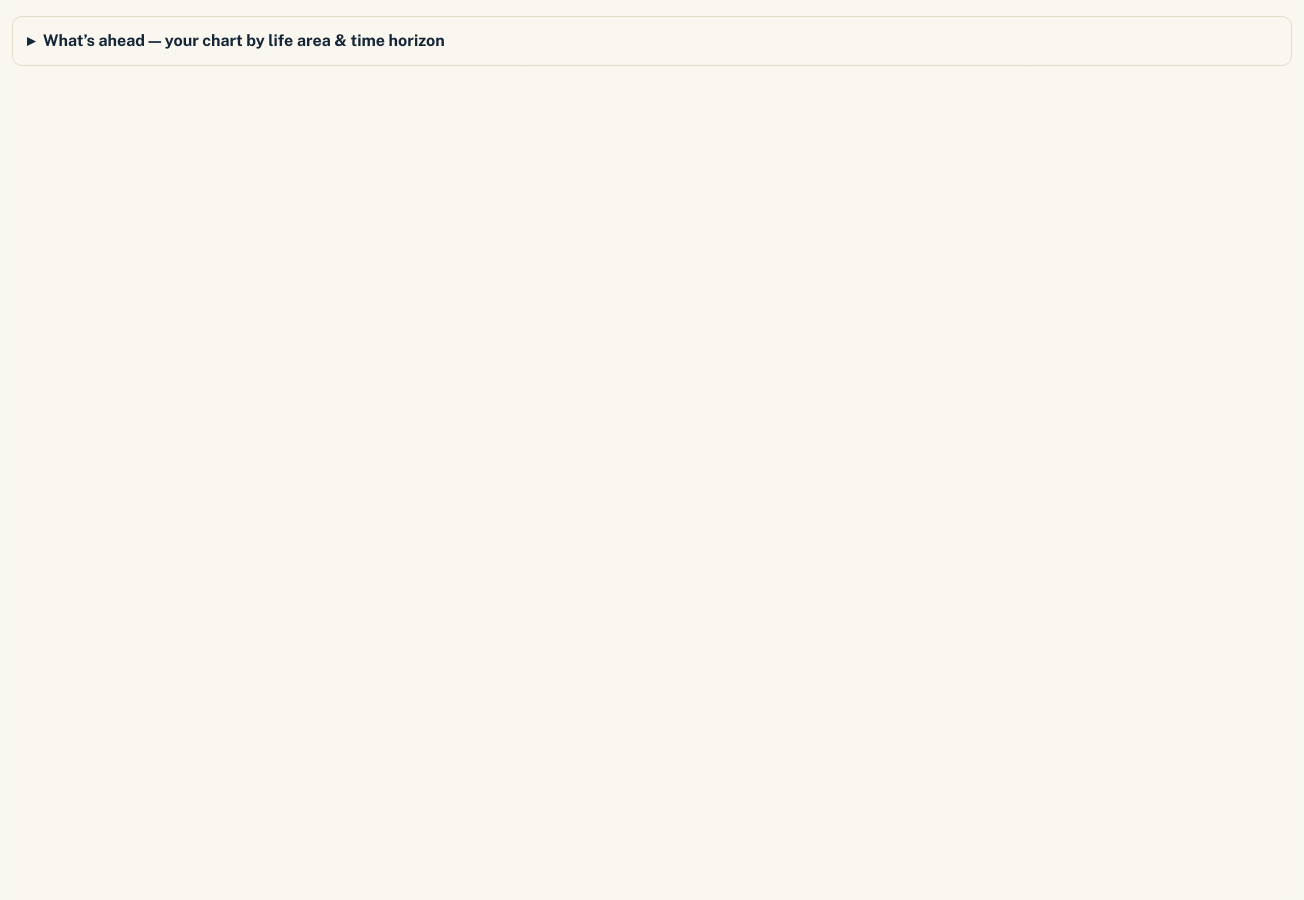
Test: WhatsAhead (Item G) › is collapsed by default, opens to show both views
Click the button with test id "whats-ahead-toggle". click: (244, 40)
box: [12,16,1292,66]
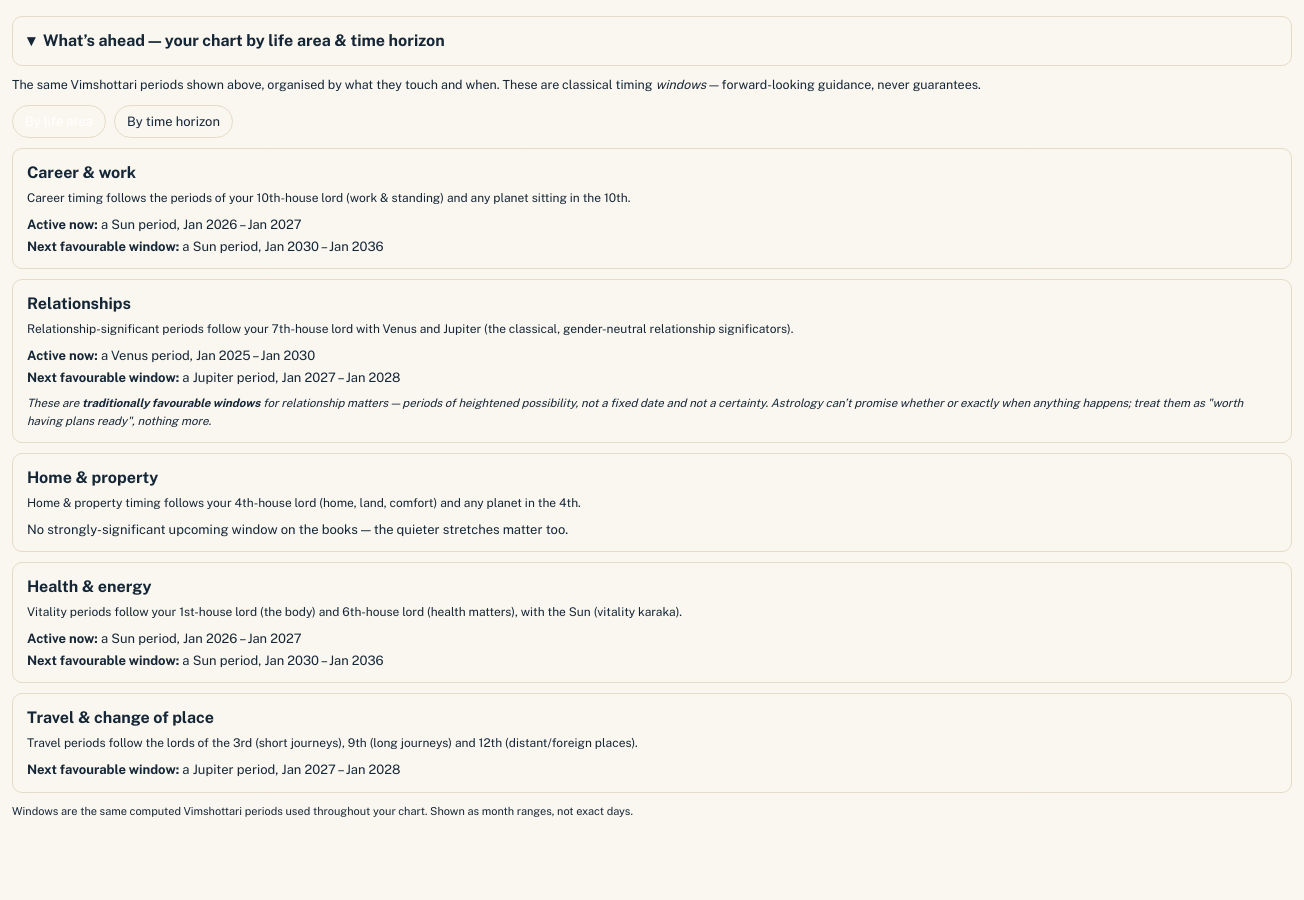
Expected: the tab with test id "whatsahead-tab-area" is shown, [12,105,106,138]
Expected: the tab with test id "whatsahead-tab-horizon" is shown, [114,105,233,138]
